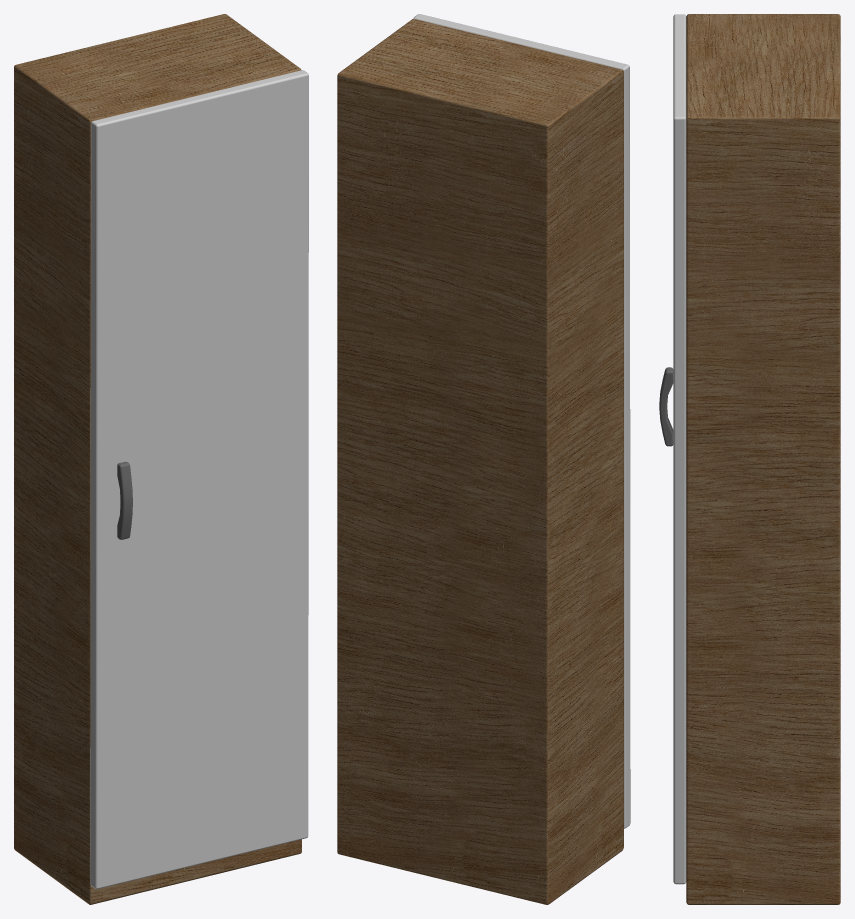
The model's file is whitewoodenwardrobe2.fbx.
3 views of the same model, side by side, from view 1: azimuth 30°, elevation 25°; view 2: azimuth 150°, elevation 25°; view 3: azimuth 270°, elevation 25° (orthographic).
Parts seen in each view (by area): view 1: wardrobe; view 2: wardrobe; view 3: wardrobe.
Boxes of the visible parts, x1,y1,x2,y2 form: wardrobe: (14, 14, 308, 904); wardrobe: (337, 14, 630, 904); wardrobe: (659, 14, 840, 904).
Size of the model in its own units: 51.51 by 181 by 37.67.
